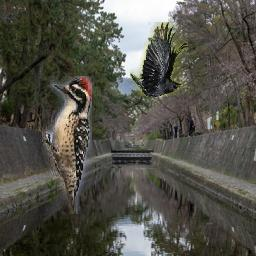Crow: (130, 23, 188, 98)
Woodpecker: (42, 76, 92, 214)
